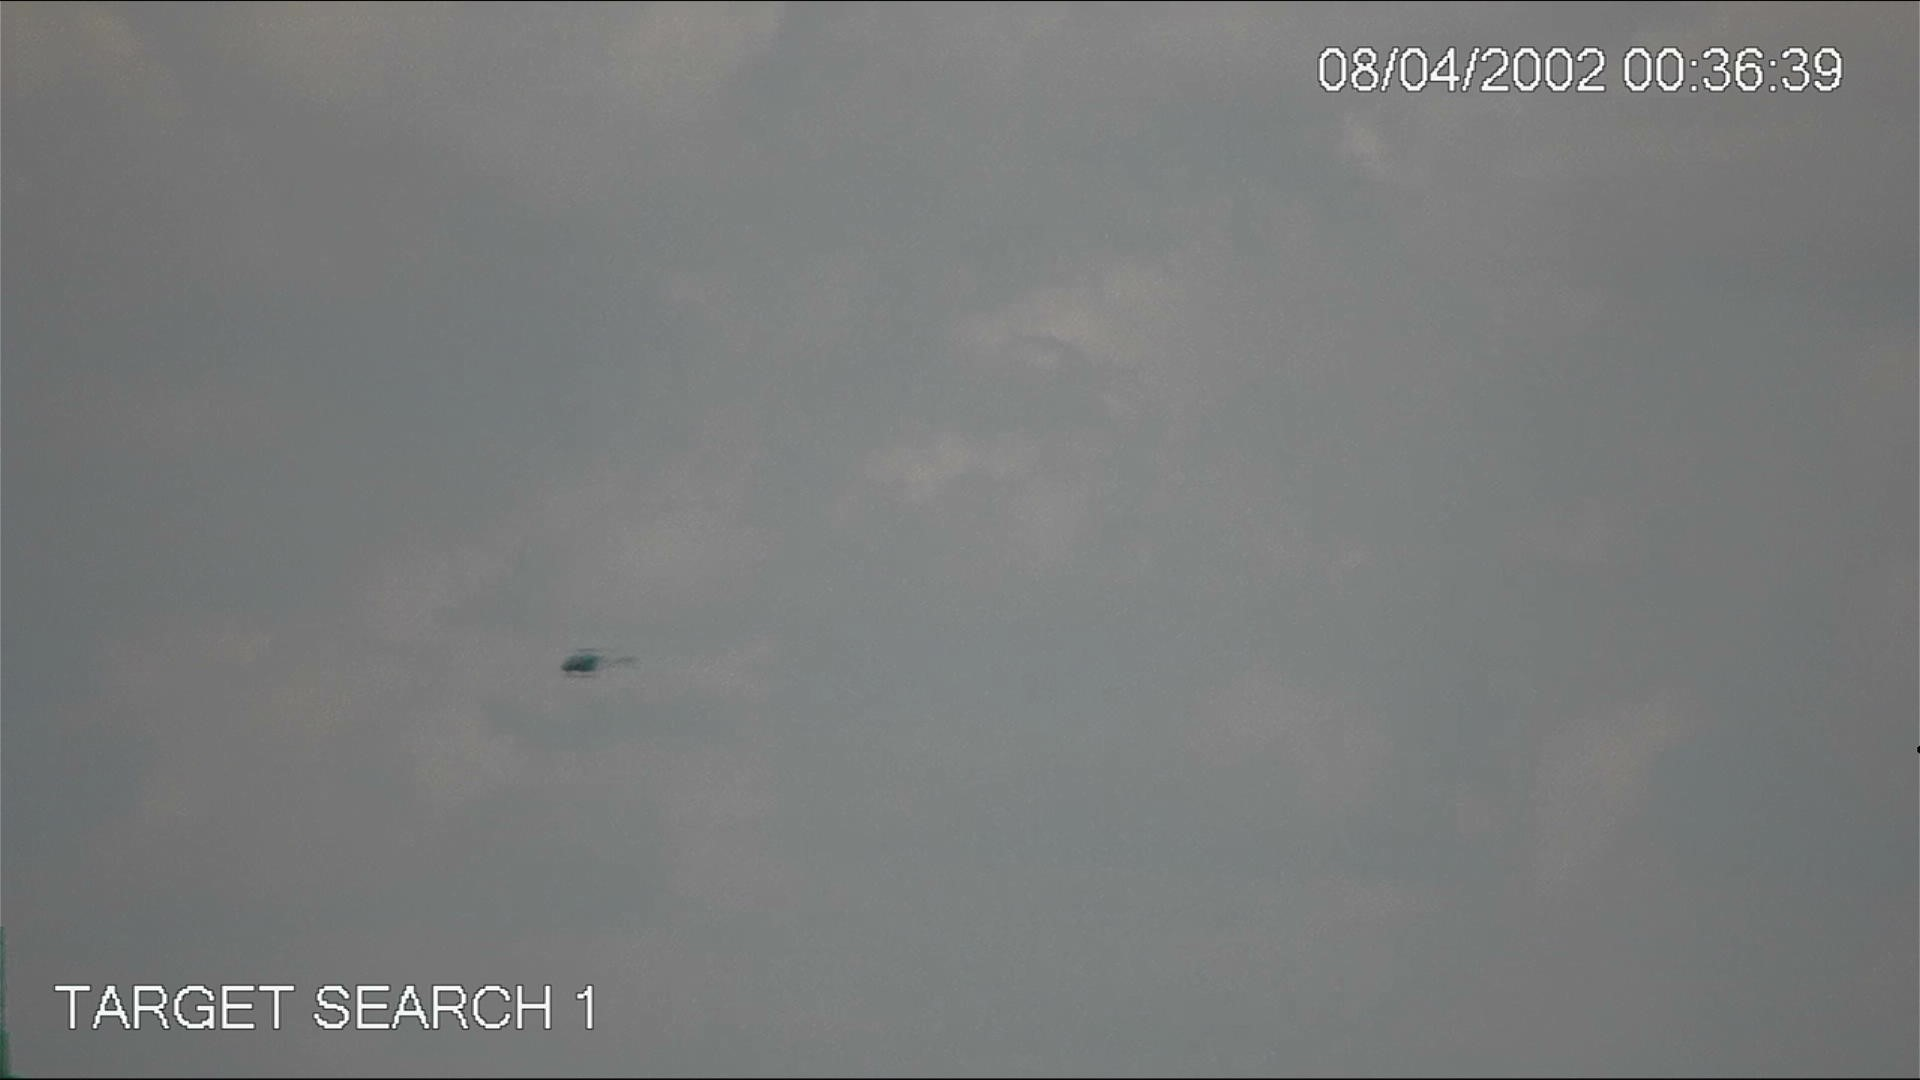SU_30: (558, 647, 640, 684)
